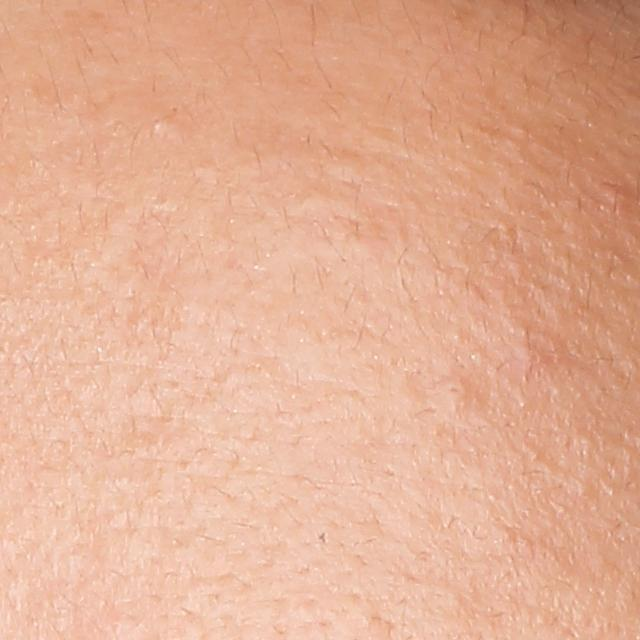comedo: (147, 110, 178, 144)
